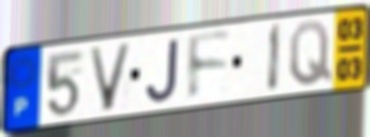5: (45, 47, 86, 119)
F: (185, 29, 234, 105)
I: (265, 21, 284, 95)
J: (143, 36, 181, 105)
Q: (287, 18, 334, 89)
V: (86, 41, 135, 115)
